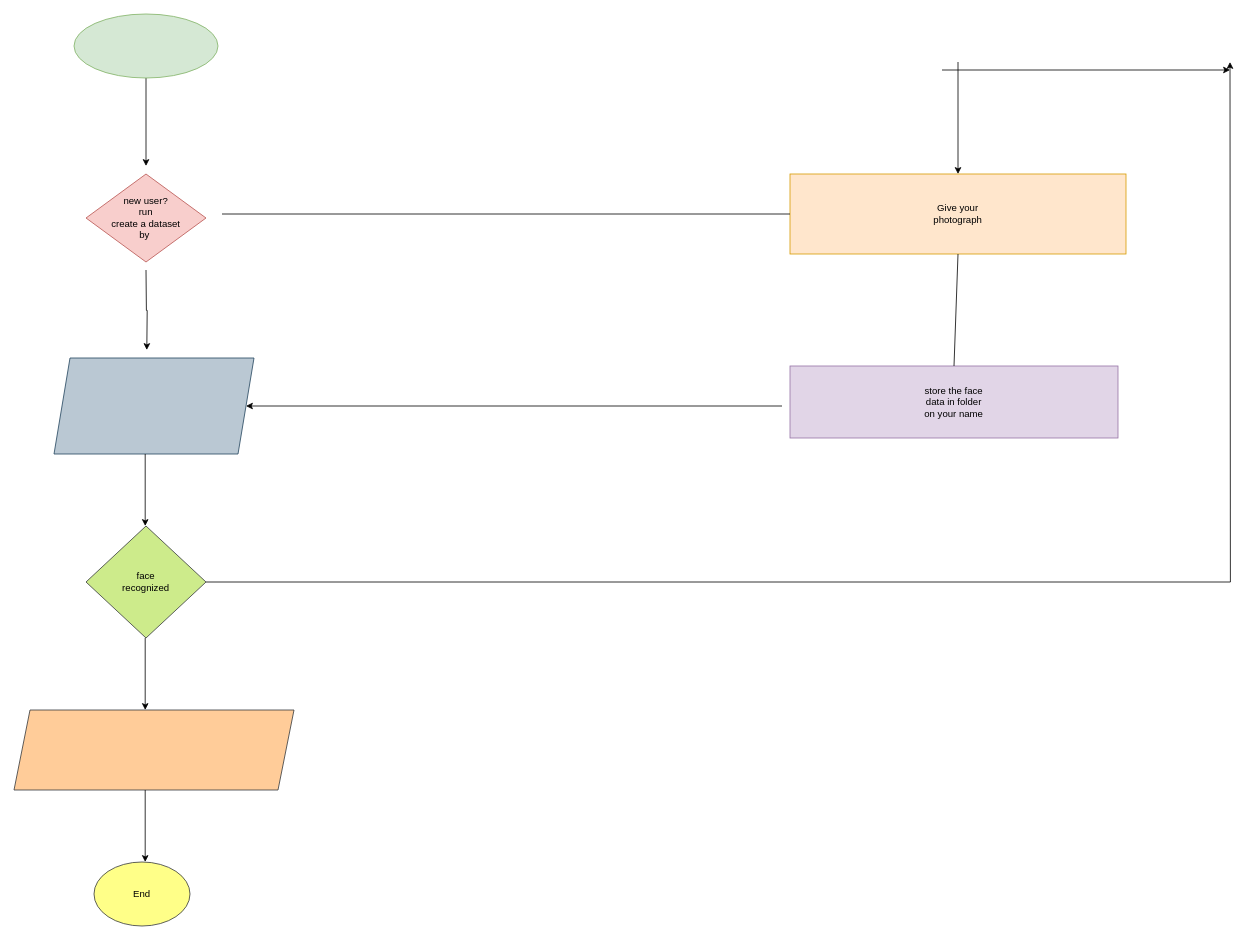
Some shapes in this 1251 by 940 pixel diagram are drawn without their labels. Here are the shapes that lost their labels. From the top down, the centre of each, then its label:
At (x=145, y=45): "start".
At (x=153, y=405): "Recognize the face run face_recognize".
At (x=153, y=749): "stored in csv file with Registration Number & Date time of entry".
